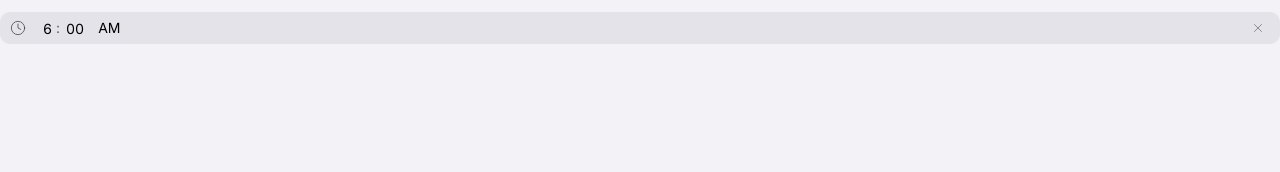
Test: clearing › can be emptied, because empty turns that scheduled message off
Click the button named "clear".
click(1258, 28)  # box [1246, 16, 1270, 40]
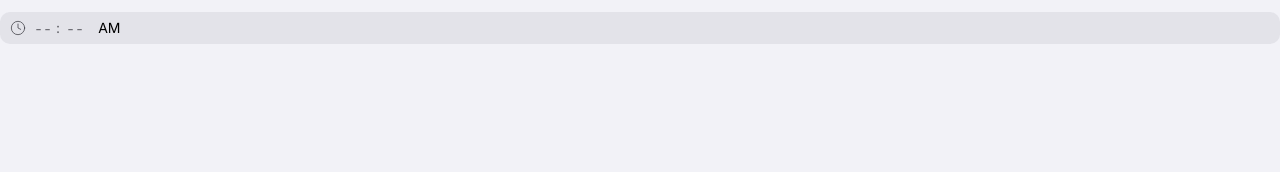
Check: the field named "hour" is empty, box [30, 12, 52, 44]
Check: the field named "minute" is empty, box [64, 12, 86, 44]
